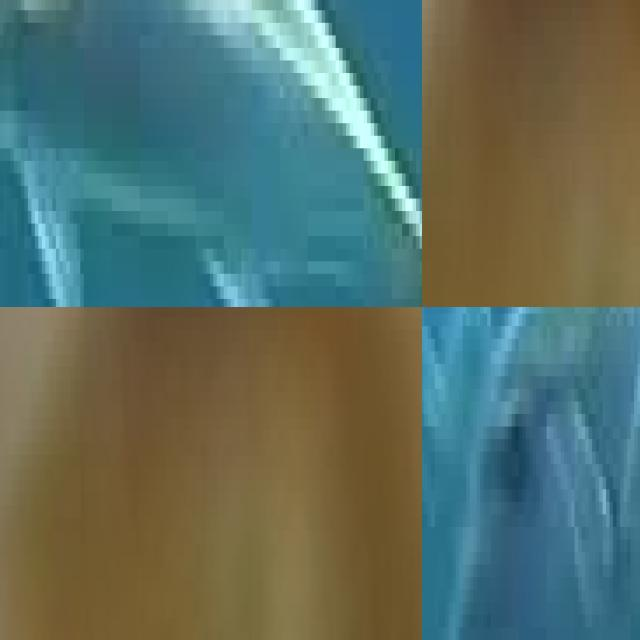fish: (0, 0, 422, 307), (431, 307, 640, 640)
